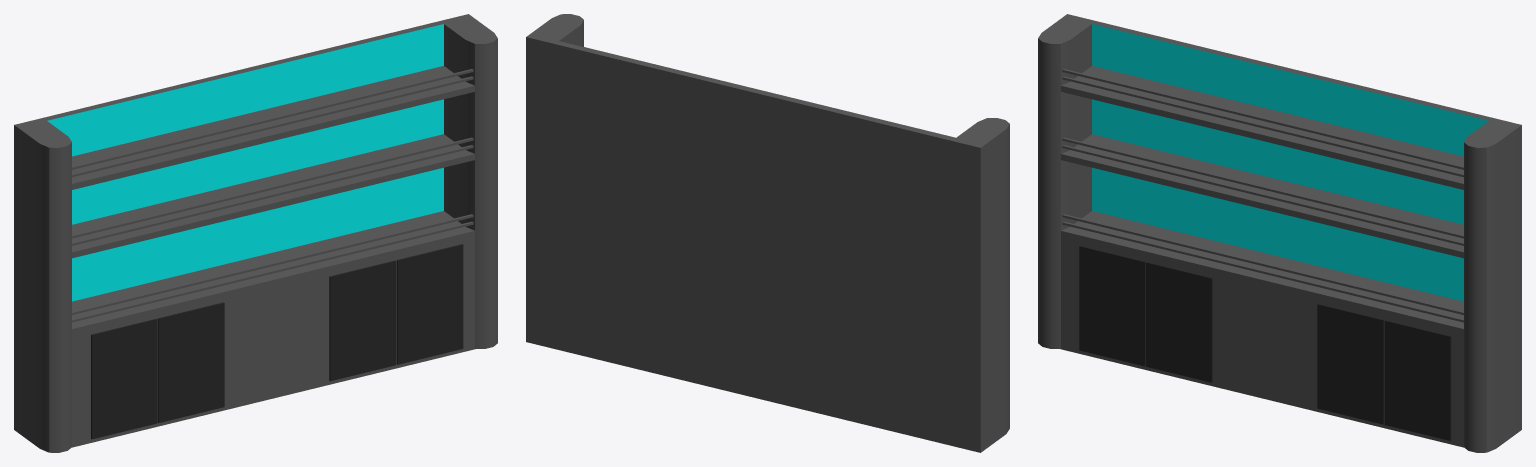
The model's file is BarCabinet_01.fbx.
3 renders of one model, left to right at view 1: azimuth 30°, elevation 25°; view 2: azimuth 150°, elevation 25°; view 3: azimuth 330°, elevation 25°, orthographic.
Parts seen in each view (by area): view 1: BarCabinet_01; view 2: BarCabinet_01; view 3: BarCabinet_01.
Boxes of the visible parts, bbox=[...] form: BarCabinet_01: bbox=[14, 14, 497, 452]; BarCabinet_01: bbox=[526, 14, 1009, 452]; BarCabinet_01: bbox=[1038, 14, 1521, 452].
Bounding box in the file's own units: 1048 × 673 × 139.
